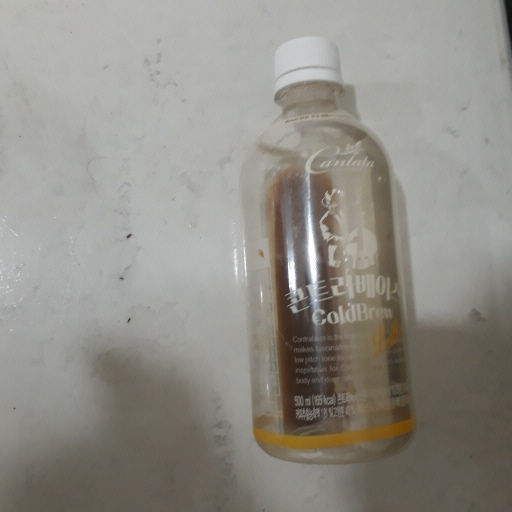Plastic_0: (242, 36, 417, 466)
